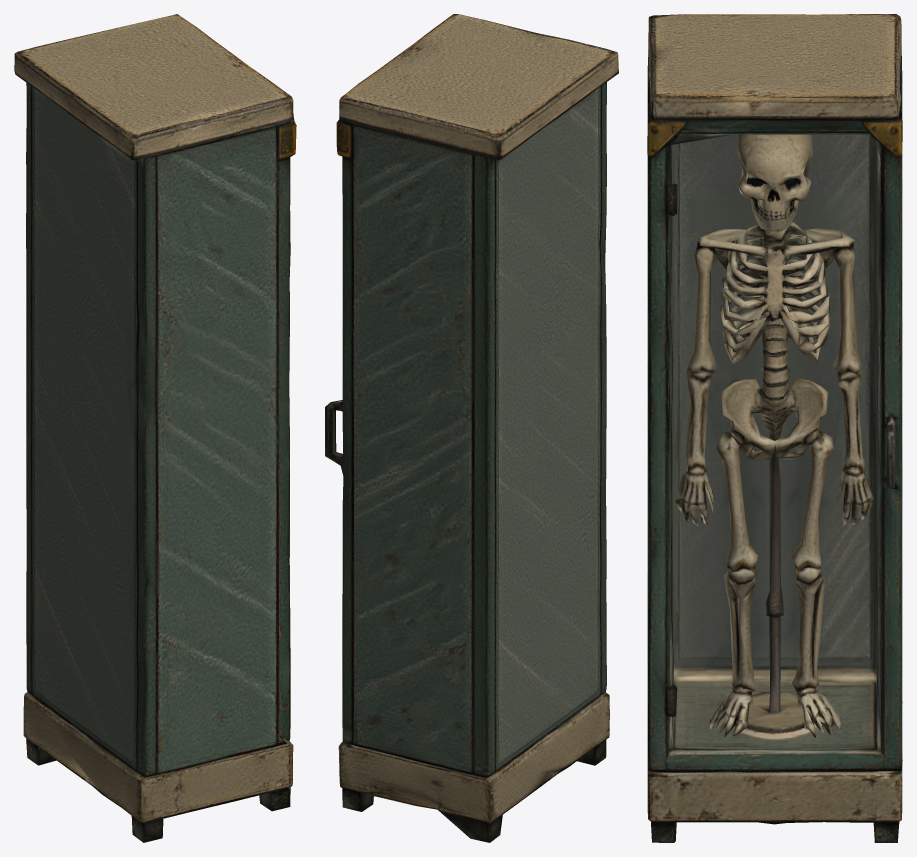
File: SkeletonCase.fbx
The picture shows the model from 3 angles, left to right: view 1: azimuth 30°, elevation 25°; view 2: azimuth 150°, elevation 25°; view 3: azimuth 270°, elevation 25°; orthographic projection. The views are drawn at different scales.
Visible parts, largest first — view 1: tripo_node_5db5ce9b-23c4-458f-8970-0fade325156a; view 2: tripo_node_5db5ce9b-23c4-458f-8970-0fade325156a; view 3: tripo_node_5db5ce9b-23c4-458f-8970-0fade325156a.
Boxes of the visible parts, bbox=[...] form: tripo_node_5db5ce9b-23c4-458f-8970-0fade325156a: bbox=[14, 14, 296, 842]; tripo_node_5db5ce9b-23c4-458f-8970-0fade325156a: bbox=[325, 14, 618, 842]; tripo_node_5db5ce9b-23c4-458f-8970-0fade325156a: bbox=[647, 14, 902, 842].
Bounding box in the file's own units: 26.43 × 100 × 30.96.
Materials: 1 (1 with a texture image).
